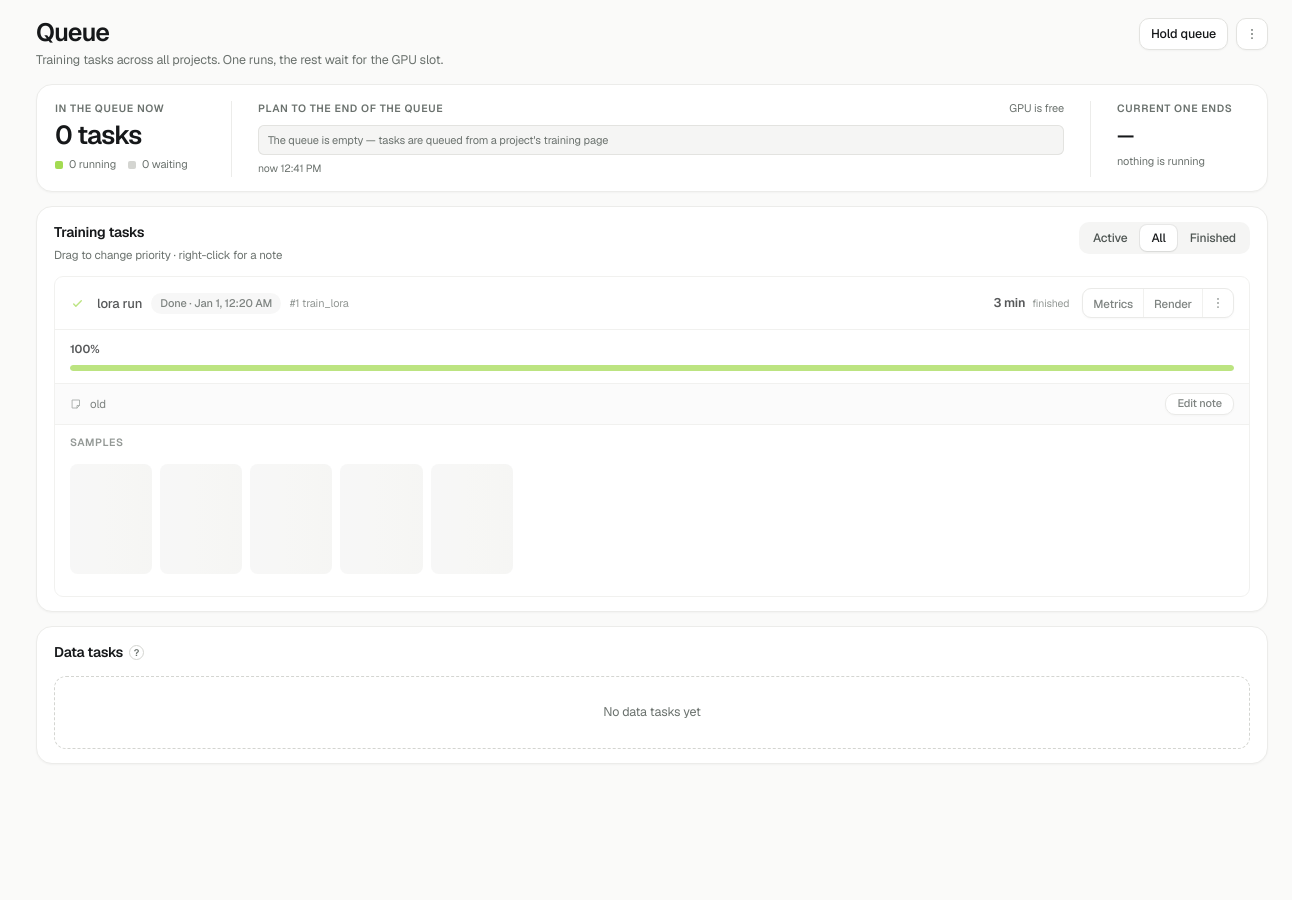
Scenario: removes a note straight from the menu
Right-click the text "lora run": (120, 303) [97,294,142,313]
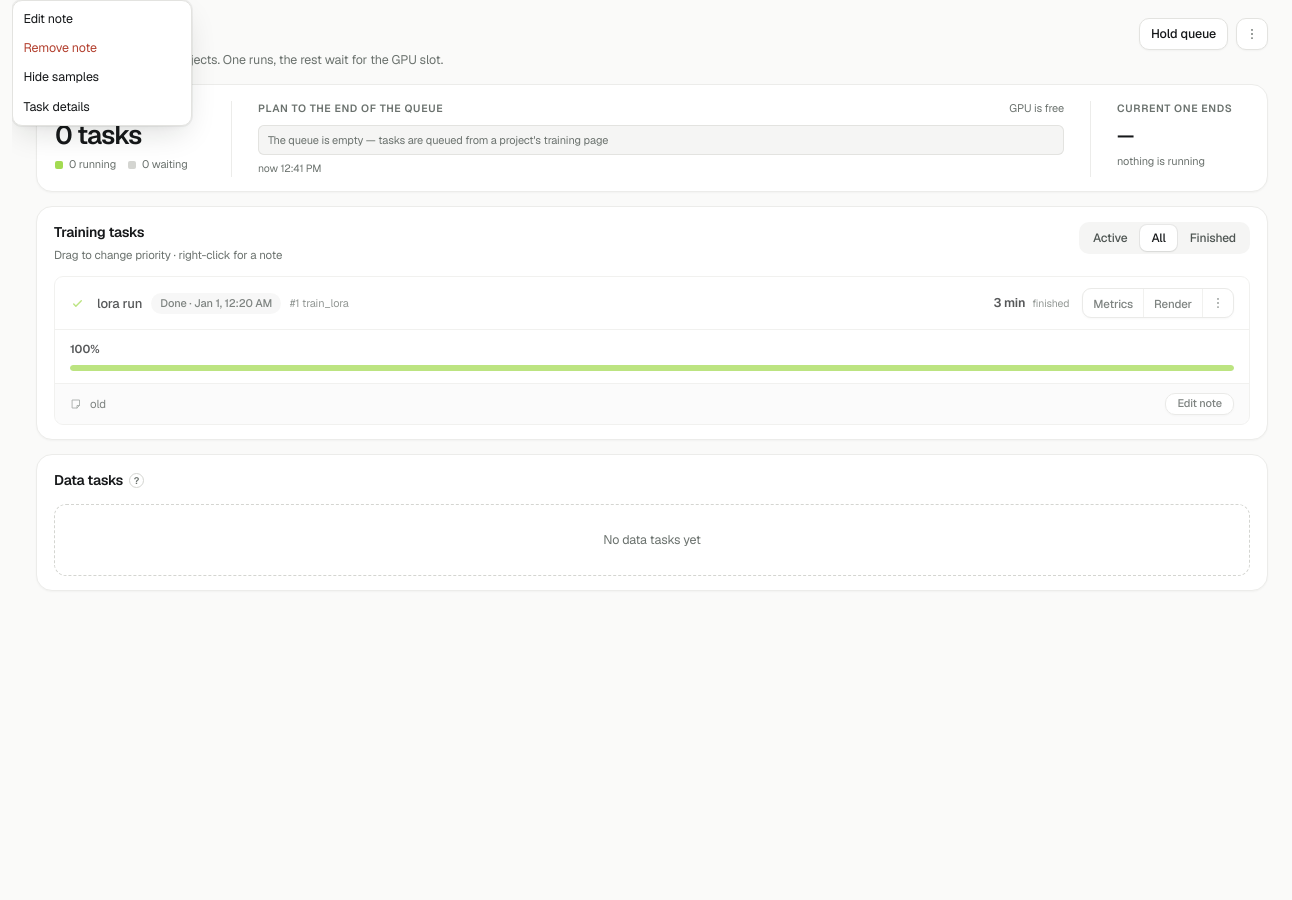
Click the menu item "Remove note": (102, 48) [13,34,191,63]
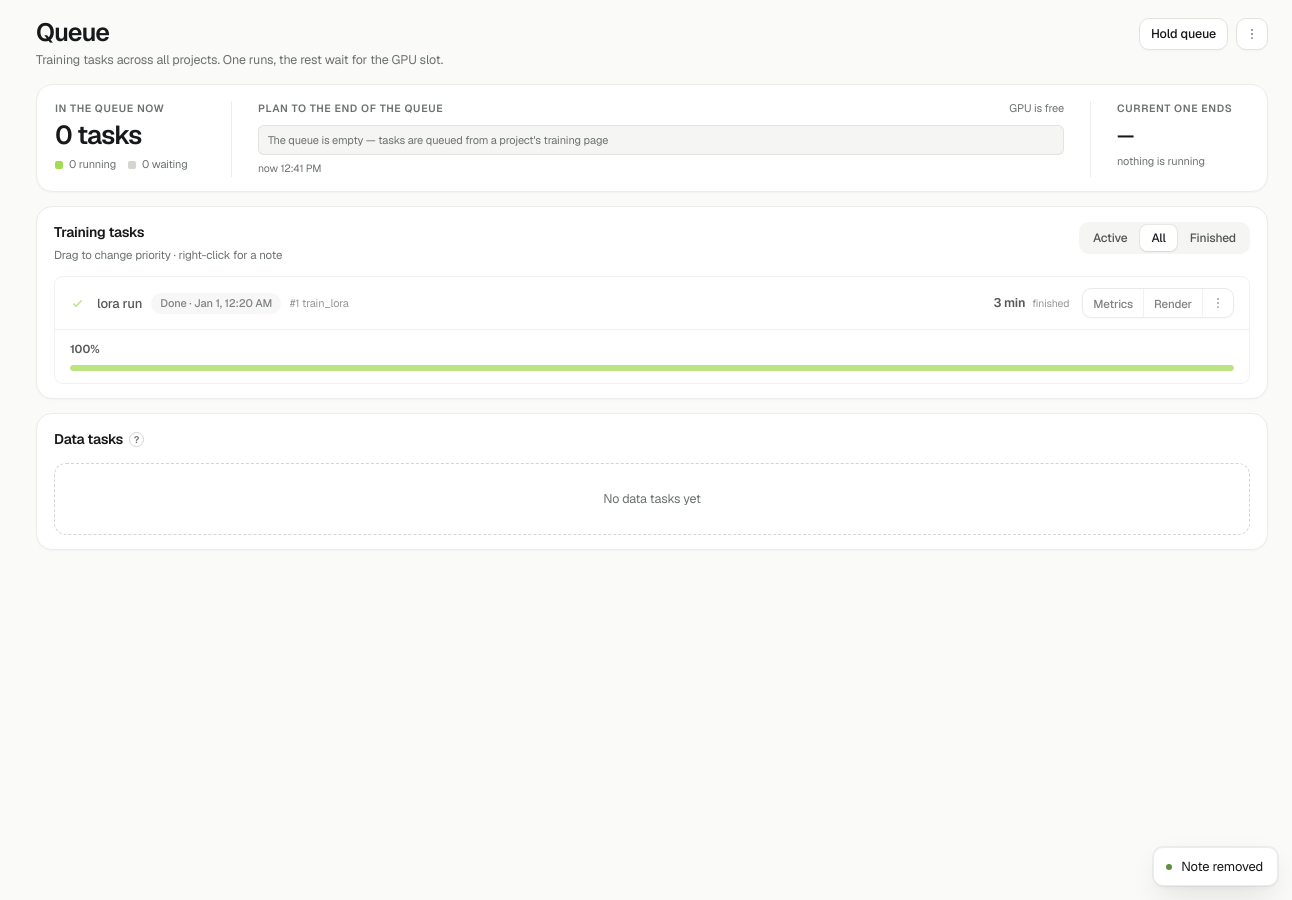
Check: the element with test id "task-note-1" is gone
